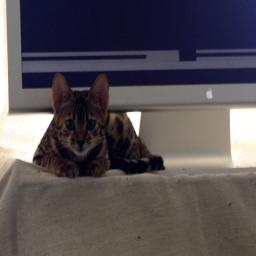catnose: (75, 138, 86, 148)
